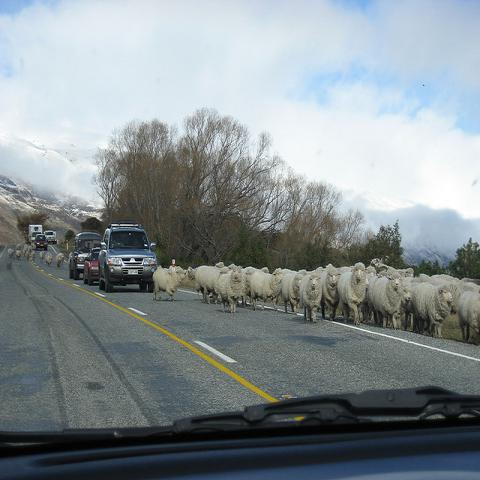car: (0, 383, 479, 475), (96, 226, 158, 296), (83, 246, 99, 284), (33, 234, 48, 250), (45, 231, 57, 245)
truck: (68, 230, 103, 280), (29, 224, 42, 246)
